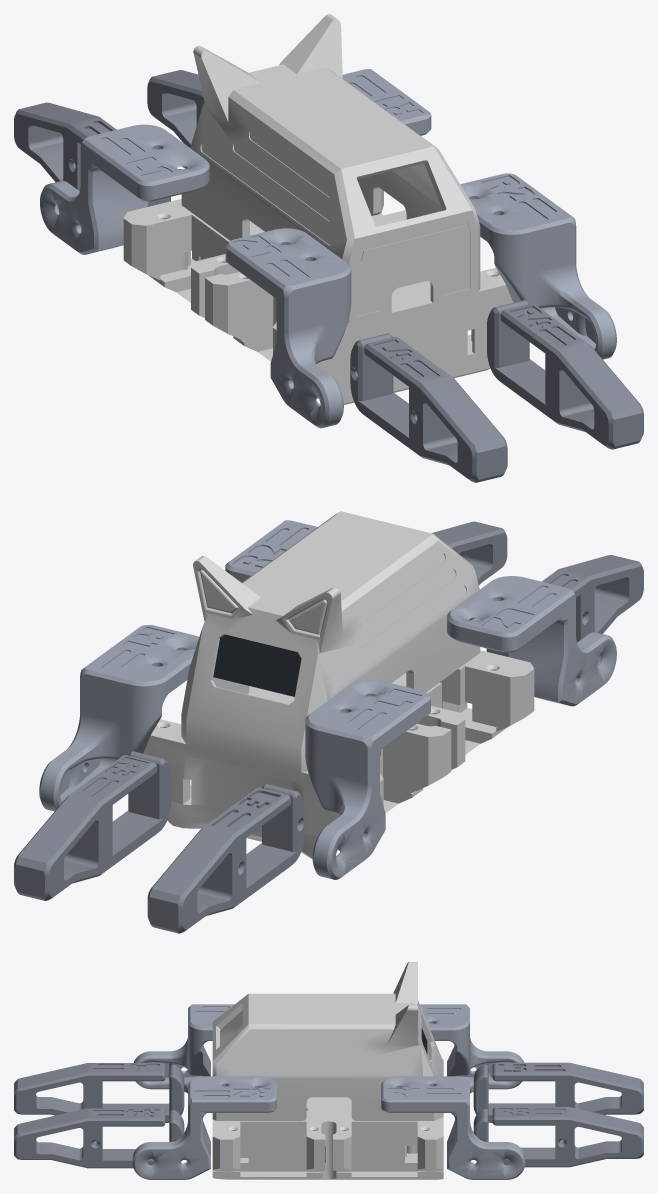
Rendered from sesame.glb.
3 renders of one model, top to bottom at view 1: azimuth 30°, elevation 25°; view 2: azimuth 150°, elevation 25°; view 3: azimuth 270°, elevation 25°, orthographic. The views are drawn at different scales.
Visible parts, largest first — view 1: body_top_cover, body_internal_frame, L2, L4, R4, R2, L1, L3, R3, body_bottom_cover, R1; view 2: body_top_cover, body_internal_frame, L1, R1, R3, L3, L2, L4, oled_screen, body_bottom_cover, R4, R2; view 3: body_top_cover, body_internal_frame, R1, R2, R3, R4, L4, L3, L1, body_bottom_cover, L2.
Boxes of the visible parts, x1=… form: body_top_cover: x1=181, y1=14, x2=480, y2=323; body_internal_frame: x1=123, y1=189, x2=513, y2=386; L2: x1=225, y1=228, x2=351, y2=428; L4: x1=350, y1=333, x2=507, y2=482; R4: x1=487, y1=300, x2=643, y2=449; R2: x1=460, y1=173, x2=616, y2=359; L1: x1=40, y1=124, x2=209, y2=254; L3: x1=14, y1=102, x2=170, y2=206; R3: x1=147, y1=70, x2=204, y2=147; body_bottom_cover: x1=148, y1=258, x2=490, y2=404; R1: x1=342, y1=69, x2=431, y2=135; body_top_cover: x1=181, y1=511, x2=480, y2=772; body_internal_frame: x1=143, y1=650, x2=534, y2=836; L1: x1=305, y1=680, x2=430, y2=879; R1: x1=39, y1=625, x2=199, y2=811; R3: x1=14, y1=751, x2=171, y2=900; L3: x1=147, y1=784, x2=304, y2=933; L2: x1=447, y1=576, x2=616, y2=706; L4: x1=486, y1=555, x2=643, y2=656; oled_screen: x1=213, y1=634, x2=301, y2=696; body_bottom_cover: x1=167, y1=708, x2=508, y2=859; R4: x1=431, y1=521, x2=507, y2=585; R2: x1=225, y1=520, x2=317, y2=582; body_top_cover: x1=212, y1=962, x2=443, y2=1120; body_internal_frame: x1=212, y1=1058, x2=443, y2=1171; R1: x1=381, y1=1076, x2=525, y2=1179; R2: x1=132, y1=1076, x2=276, y2=1179; R3: x1=473, y1=1107, x2=643, y2=1167; R4: x1=14, y1=1108, x2=184, y2=1168; L4: x1=14, y1=1063, x2=184, y2=1122; L3: x1=473, y1=1062, x2=643, y2=1122; L1: x1=420, y1=1004, x2=523, y2=1093; body_bottom_cover: x1=212, y1=1153, x2=443, y2=1179; L2: x1=133, y1=1004, x2=234, y2=1093.
Size of the model in its own units: 0.0787 by 0.0661 by 0.2162.
